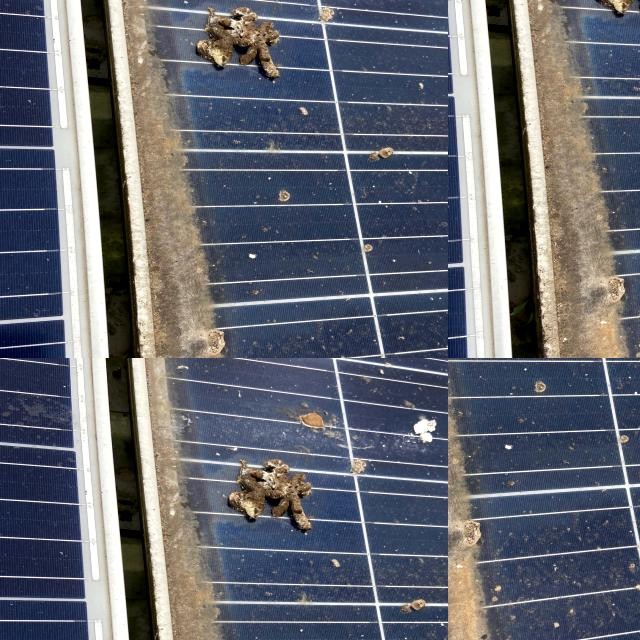bird: (448, 358, 561, 407), (499, 361, 572, 406), (599, 358, 640, 393), (607, 358, 640, 388), (527, 358, 582, 372), (236, 410, 272, 424), (59, 437, 85, 455), (205, 426, 238, 440), (21, 446, 42, 466), (274, 410, 300, 426), (276, 427, 304, 440), (52, 400, 86, 410), (116, 437, 142, 450), (136, 410, 160, 423), (0, 452, 18, 469), (242, 432, 258, 450), (0, 403, 19, 418), (180, 429, 196, 446), (267, 400, 301, 408), (105, 452, 129, 462), (218, 402, 234, 417), (57, 412, 77, 424), (108, 404, 128, 416), (178, 398, 212, 405), (23, 404, 36, 422), (40, 428, 58, 440), (224, 445, 244, 454), (127, 403, 151, 409)
dust: (135, 0, 335, 45), (448, 147, 509, 272), (533, 239, 640, 305), (448, 72, 501, 140), (0, 55, 42, 125), (448, 0, 489, 69), (212, 0, 325, 24), (50, 10, 97, 56), (134, 0, 205, 9), (0, 14, 14, 48), (37, 0, 78, 8), (96, 0, 116, 11), (73, 0, 120, 4)
